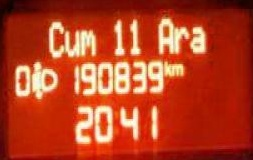0: (93, 102, 112, 143), (13, 60, 30, 97), (95, 60, 111, 94)
1: (110, 15, 125, 57), (126, 17, 141, 55), (146, 100, 159, 140), (70, 62, 79, 93)
2: (74, 102, 91, 143)
3: (130, 59, 145, 94)
4: (119, 104, 139, 140)
8: (113, 59, 129, 94)
9: (145, 57, 162, 93), (80, 59, 95, 95)
X: (155, 12, 172, 53), (47, 19, 63, 59), (64, 25, 79, 57), (189, 24, 205, 54), (79, 27, 95, 55), (174, 22, 188, 53), (112, 107, 118, 137), (163, 57, 172, 77), (172, 62, 183, 75)
